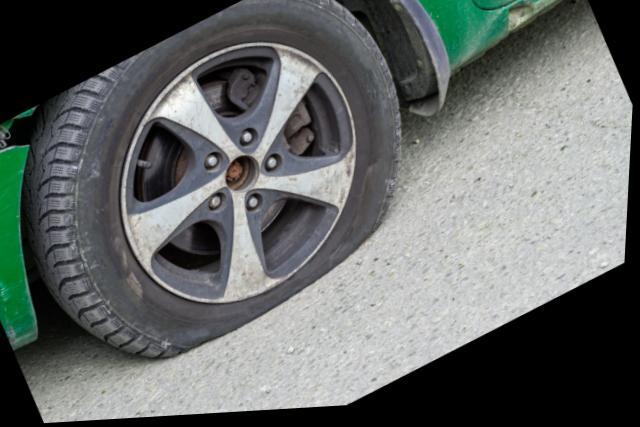scratch: (0, 211, 13, 314)
tire flat: (23, 0, 402, 360)
